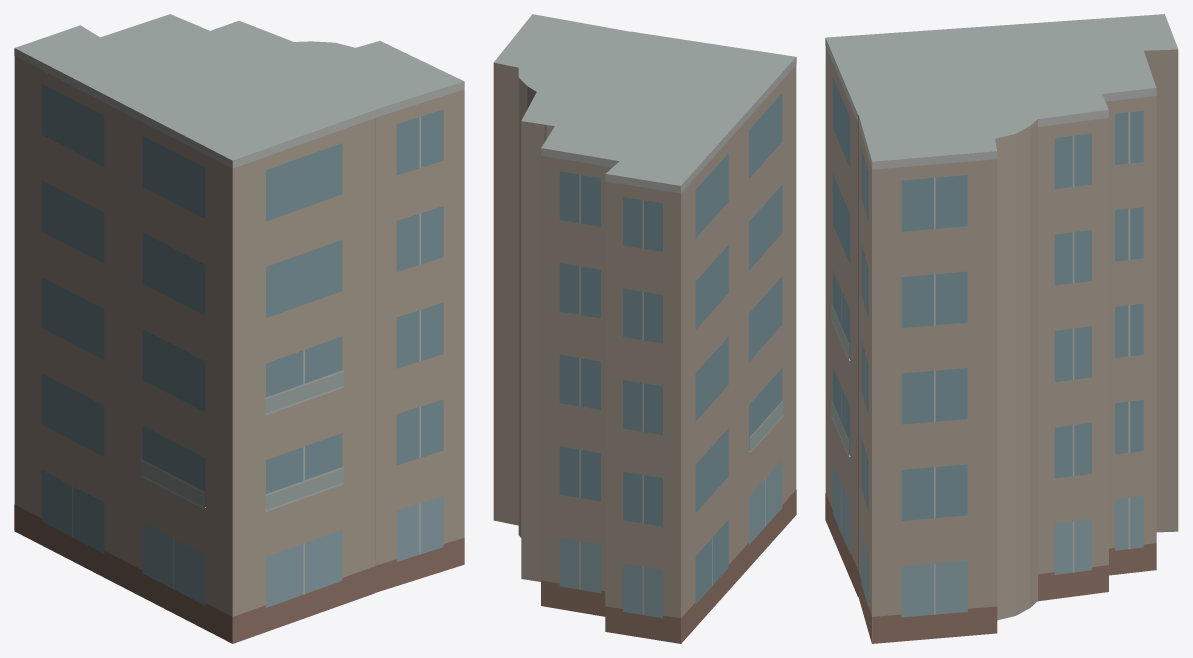
Rendered from survey-upis-33021122.glb.
3 renders of one model, left to right at view 1: azimuth 30°, elevation 25°; view 2: azimuth 150°, elevation 25°; view 3: azimuth 270°, elevation 25°, orthographic. The views are drawn at different scales.
Visible parts, largest first — view 1: survey-upis-33021122.tmp; view 2: survey-upis-33021122.tmp; view 3: survey-upis-33021122.tmp.
Part boxes in pixels (left/top/right/bottom): survey-upis-33021122.tmp: left=14, top=14, right=464, bottom=643; survey-upis-33021122.tmp: left=493, top=14, right=796, bottom=643; survey-upis-33021122.tmp: left=825, top=14, right=1178, bottom=643.
Size of the model in its own units: 9.67 by 14.7 by 9.77.
